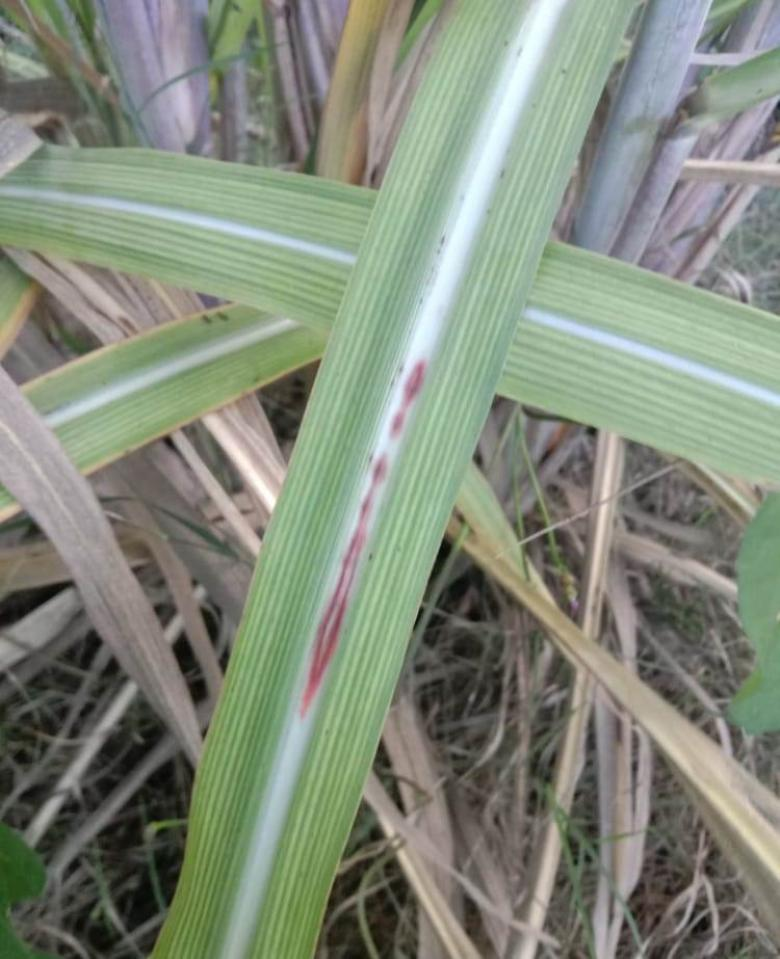RedRot: (297, 358, 428, 726)
Rust: (436, 236, 445, 254), (515, 45, 524, 58), (499, 166, 505, 180), (389, 377, 395, 389), (367, 553, 374, 561), (503, 38, 508, 46), (399, 366, 404, 374)
